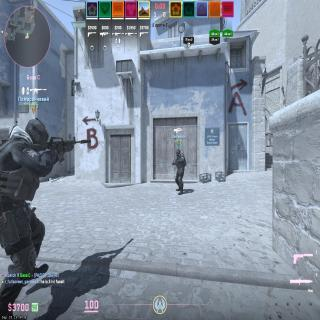CT-Body: (0, 118, 50, 320), (172, 148, 187, 196)
CT-Head: (25, 118, 49, 152), (176, 148, 181, 157)
